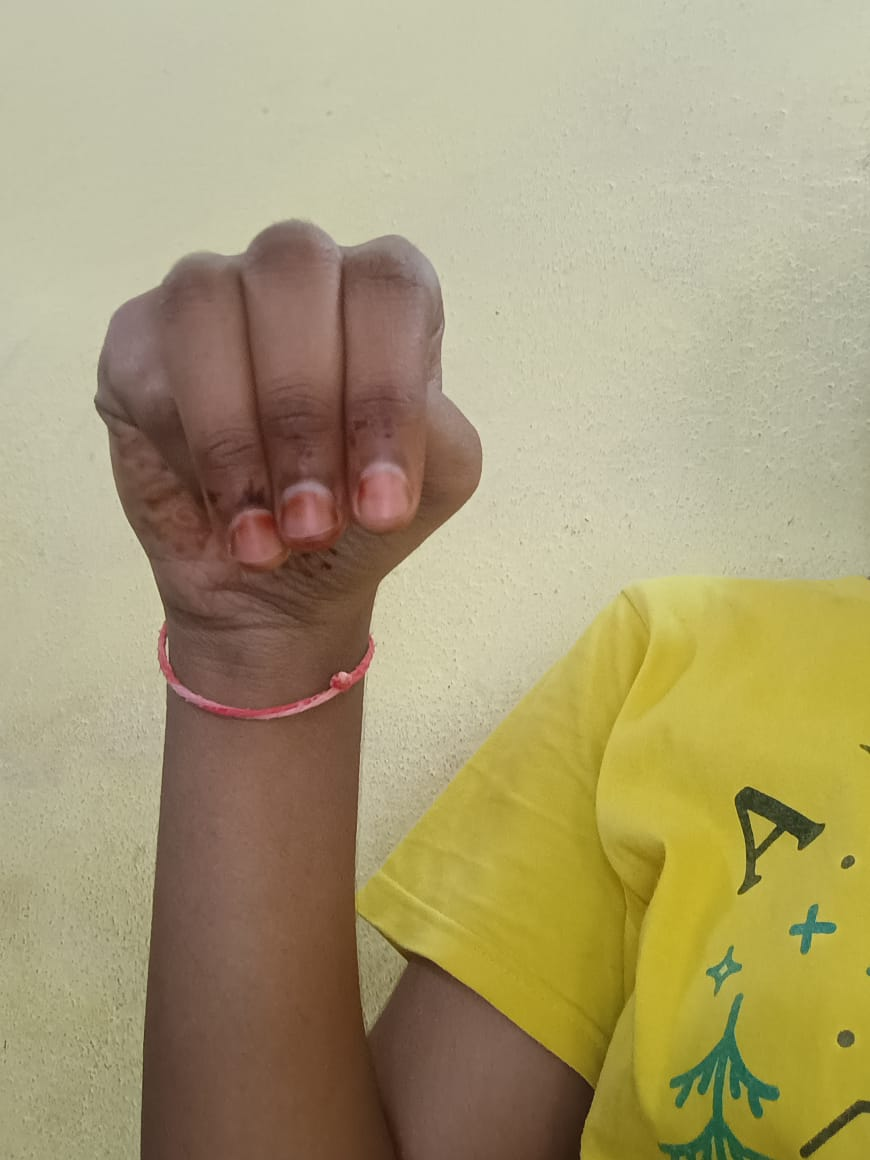M: (92, 218, 480, 642)
